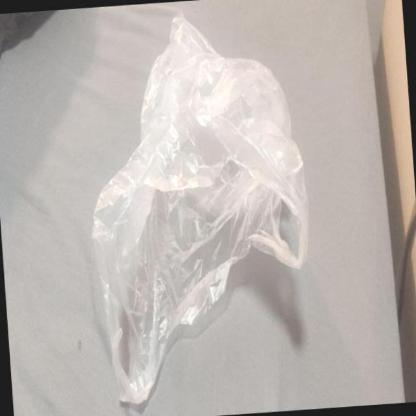Others: (90, 14, 310, 408)
